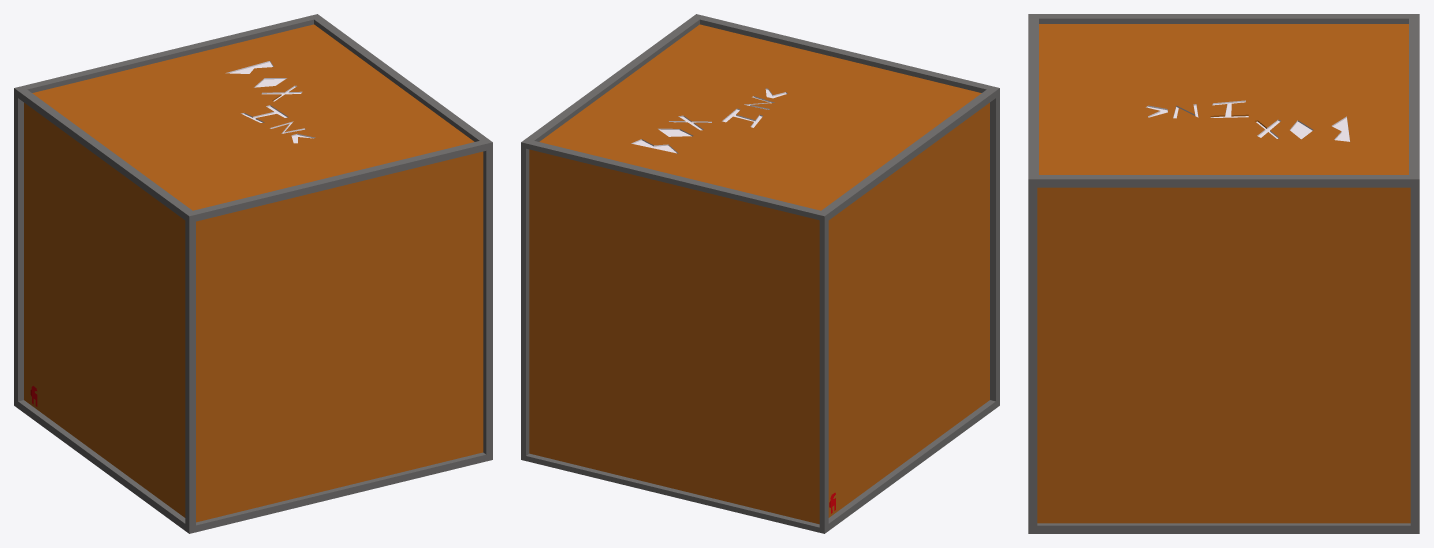
The model's file is TheBox.fbx.
The picture shows the model from 3 angles, left to right: view 1: azimuth 30°, elevation 25°; view 2: azimuth 150°, elevation 25°; view 3: azimuth 270°, elevation 25°; orthographic projection. The views are drawn at different scales.
Visible parts, largest first — view 1: Cube; view 2: Cube; view 3: Cube.
Part boxes in pixels (<box>): Cube: <box>14,14,492,533</box>; Cube: <box>521,14,999,533</box>; Cube: <box>1028,14,1419,533</box>.
Size of the model in its own units: 200 by 200 by 200.
